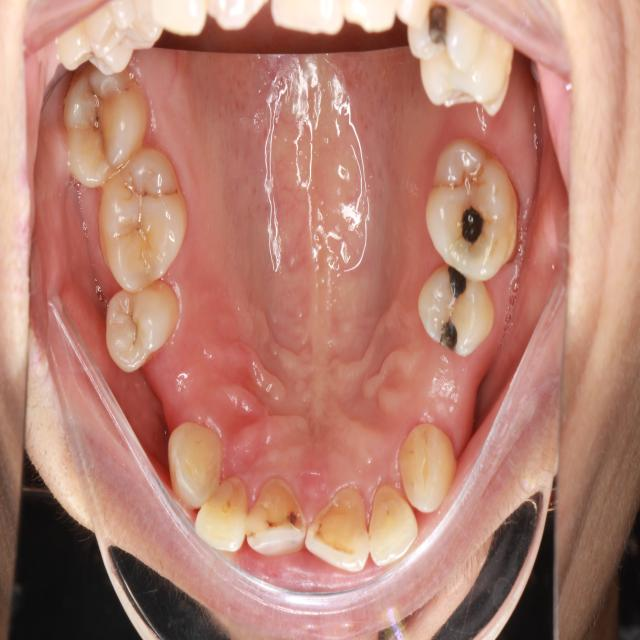tooth: (421, 122, 528, 288), (89, 139, 194, 300), (51, 66, 155, 200), (99, 275, 185, 384), (412, 262, 500, 363), (301, 472, 376, 584), (240, 464, 317, 567), (160, 413, 234, 517), (185, 459, 257, 564), (396, 413, 458, 521), (366, 484, 420, 575)
